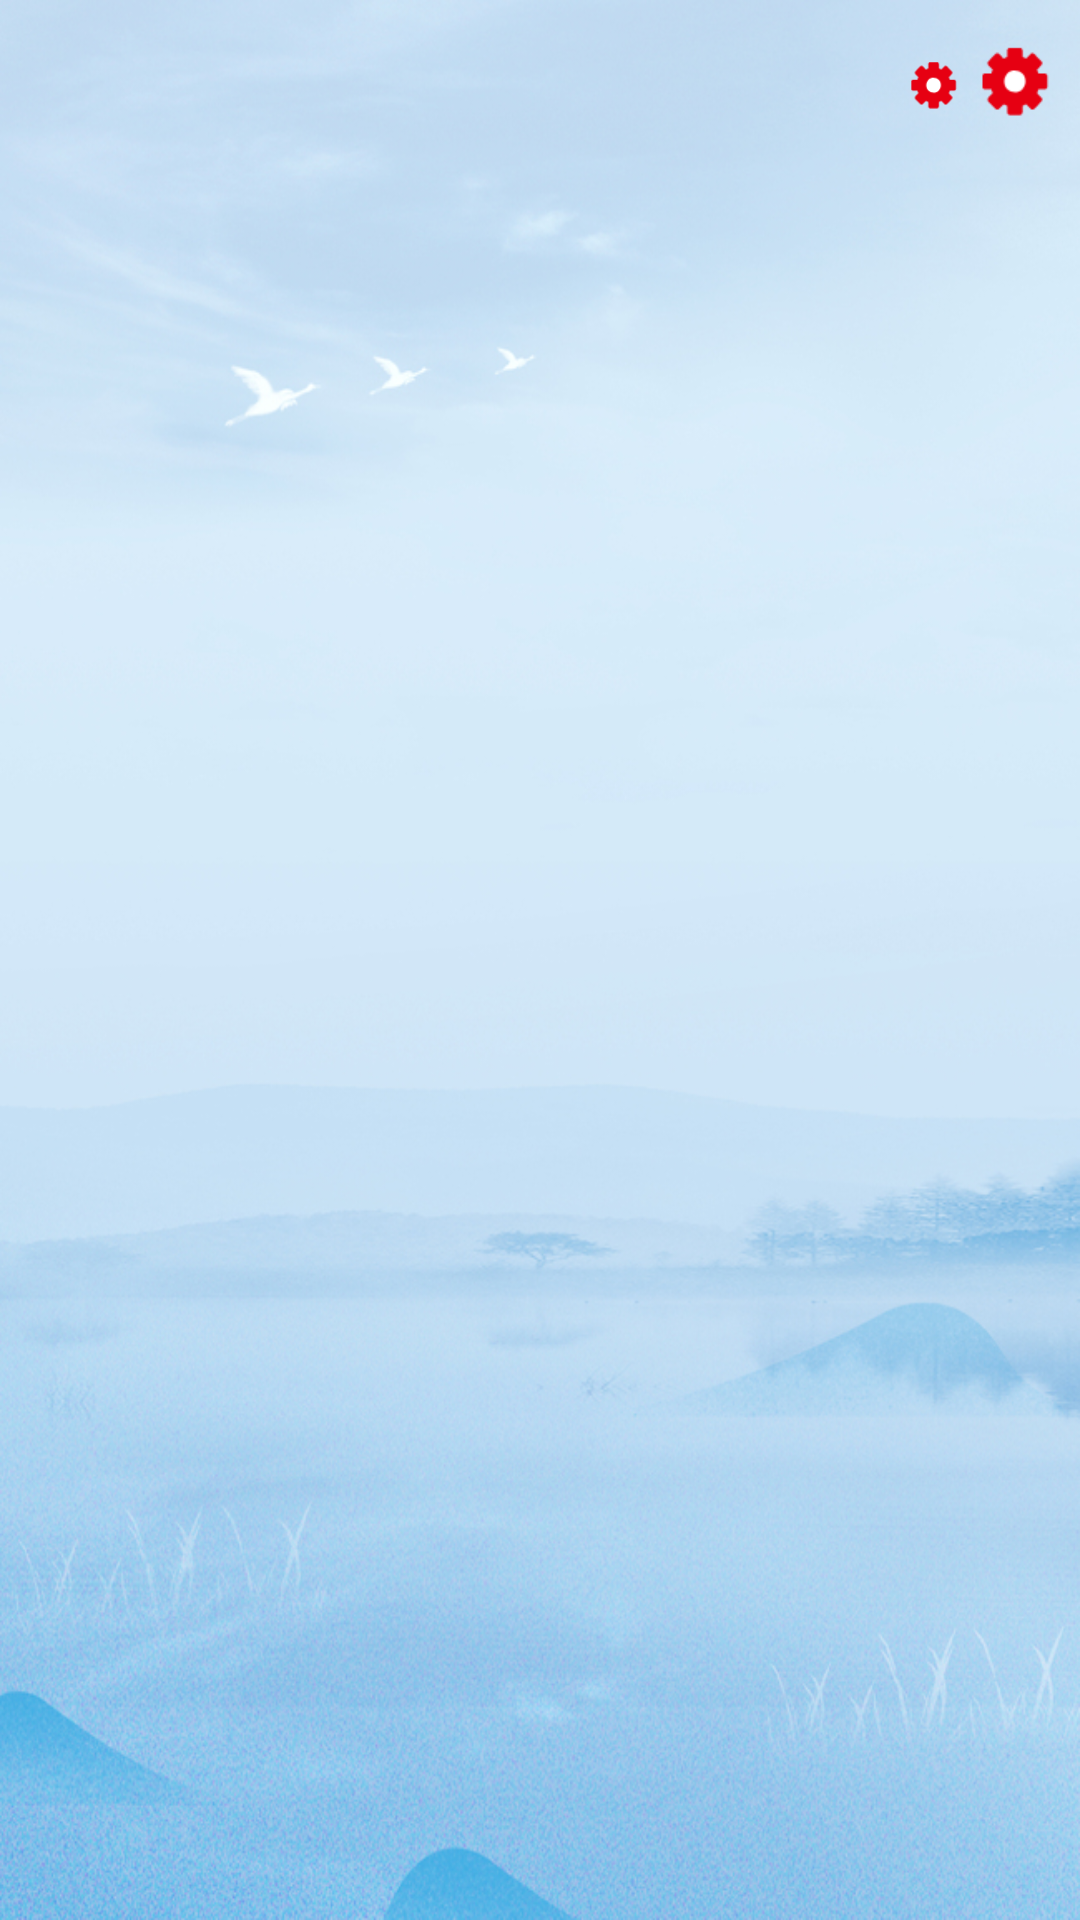

Screen size 1080px×1920px. Icon name, then its box in pixels as bbox=[x1, y1, x2, y2]:
set: bbox=[982, 47, 1049, 116], bbox=[911, 62, 957, 109]
